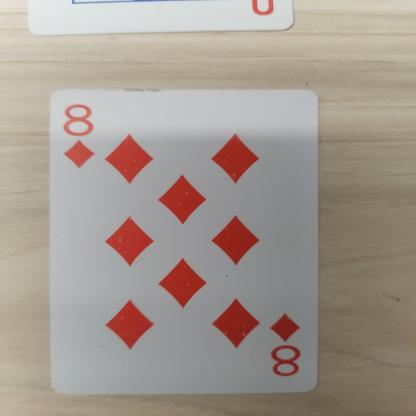8D: (52, 96, 118, 178), (261, 307, 311, 386)
